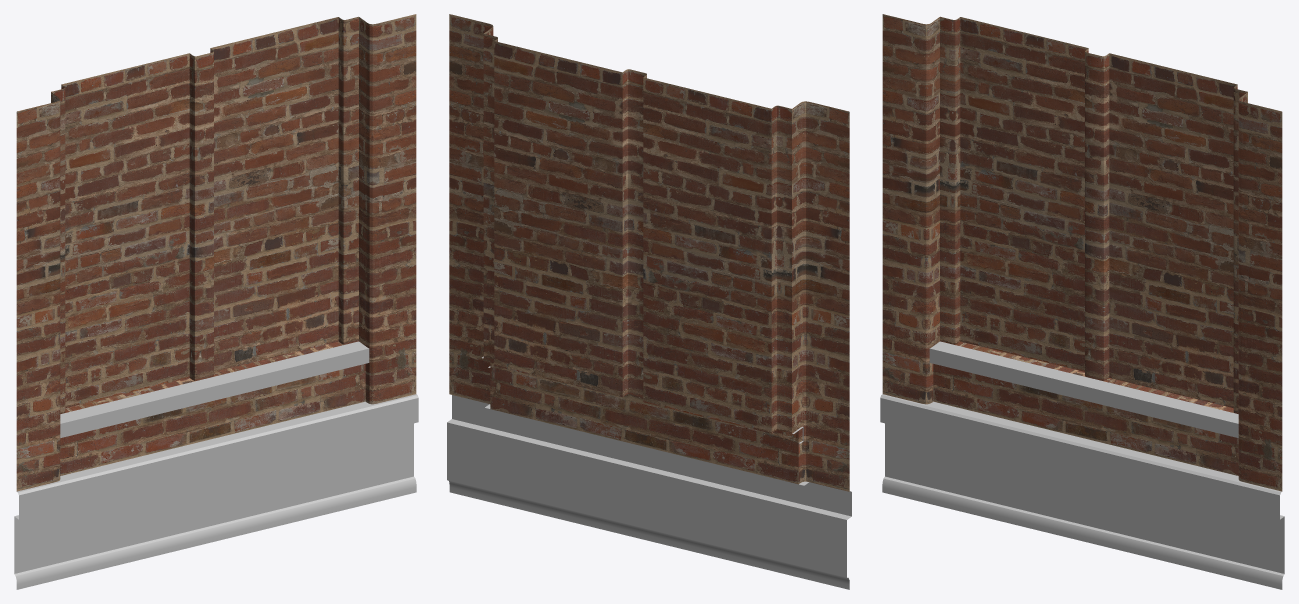
File: SM_Wall_A_ExteriorOnly.fbx
3 renders of one model, left to right at view 1: azimuth 30°, elevation 25°; view 2: azimuth 150°, elevation 25°; view 3: azimuth 330°, elevation 25°, orthographic.
Parts seen in each view (by area): view 1: SM_Wall_A_ExteriorOnly; view 2: SM_Wall_A_ExteriorOnly; view 3: SM_Wall_A_ExteriorOnly.
Part boxes in pixels (<box>): SM_Wall_A_ExteriorOnly: <box>14,14,418,589</box>; SM_Wall_A_ExteriorOnly: <box>447,14,851,589</box>; SM_Wall_A_ExteriorOnly: <box>880,14,1284,589</box>.
Bounding box in the file's own units: 700 × 57.38 × 800.
